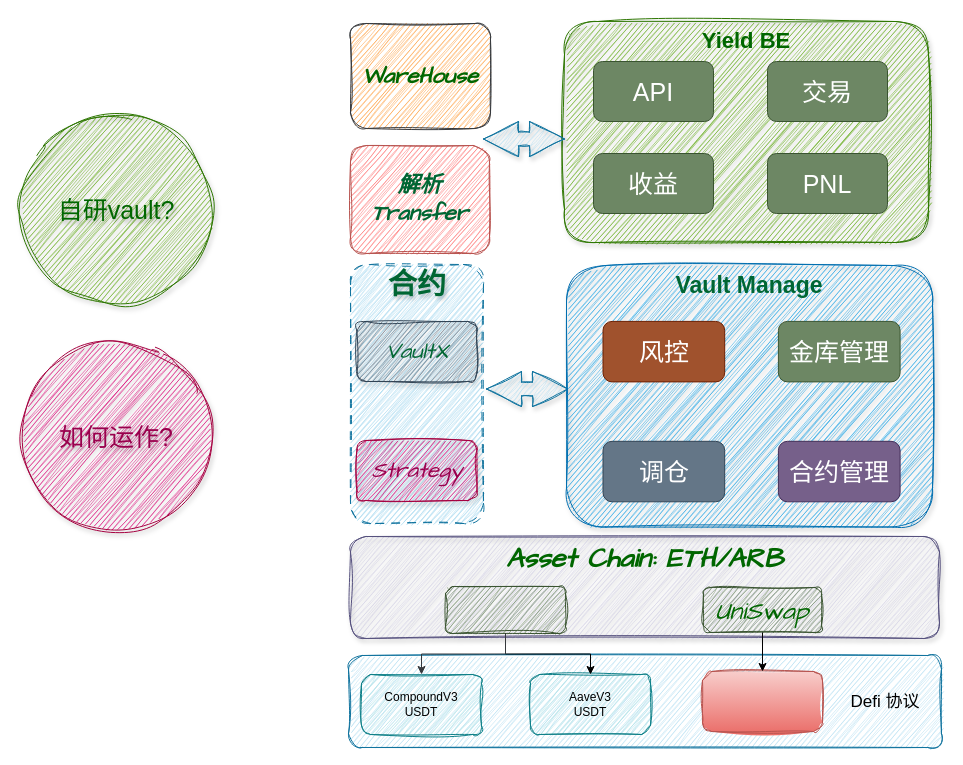
Some shapes in this 963 by 765 pixel diagram are drawn without their labels. Each missing label, with the centre of its shape:
Lending: point (505, 610)
UniSwap V3: point (762, 701)
